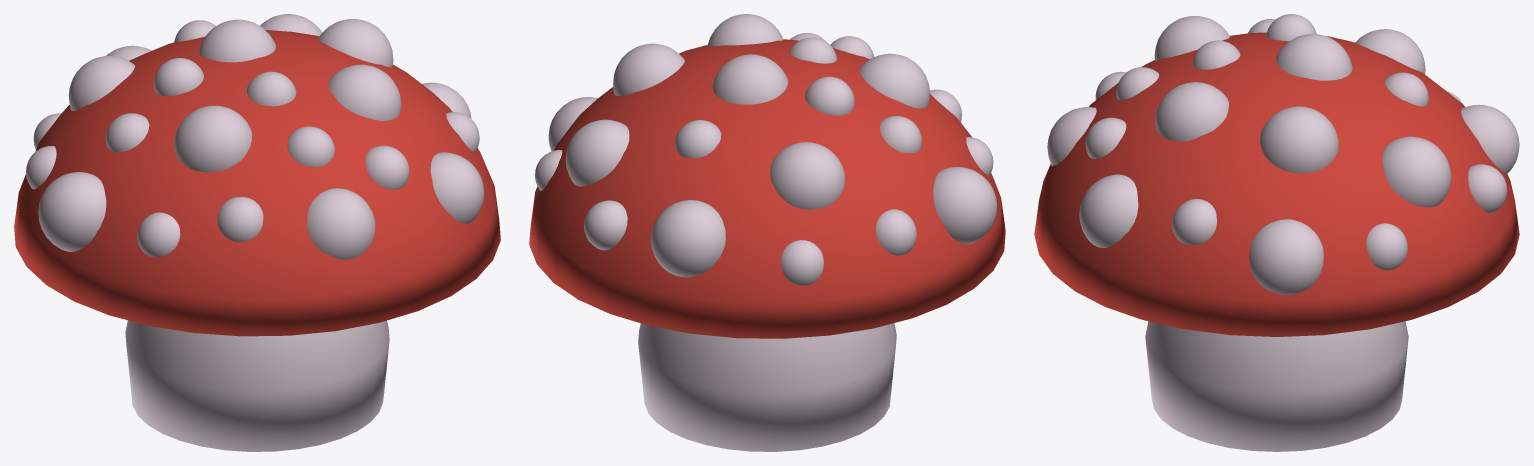
The model's file is shroom.fbx.
3 renders of one model, left to right at view 1: azimuth 30°, elevation 25°; view 2: azimuth 150°, elevation 25°; view 3: azimuth 270°, elevation 25°, orthographic. The views are drawn at different scales.
Visible parts, largest first — view 1: shroom; view 2: shroom; view 3: shroom.
Boxes of the visible parts, bbox=[...] form: shroom: bbox=[14, 14, 500, 451]; shroom: bbox=[529, 14, 1005, 451]; shroom: bbox=[1034, 14, 1519, 451].
Bounding box in the file's own units: 155 × 123 × 150.
